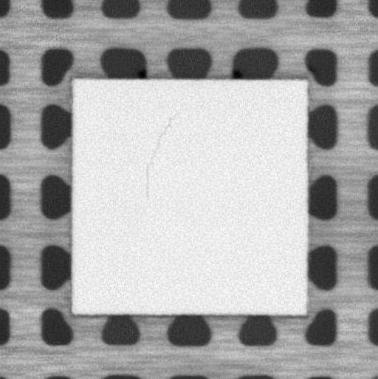DIE_CRACK: (143, 113, 176, 200)
